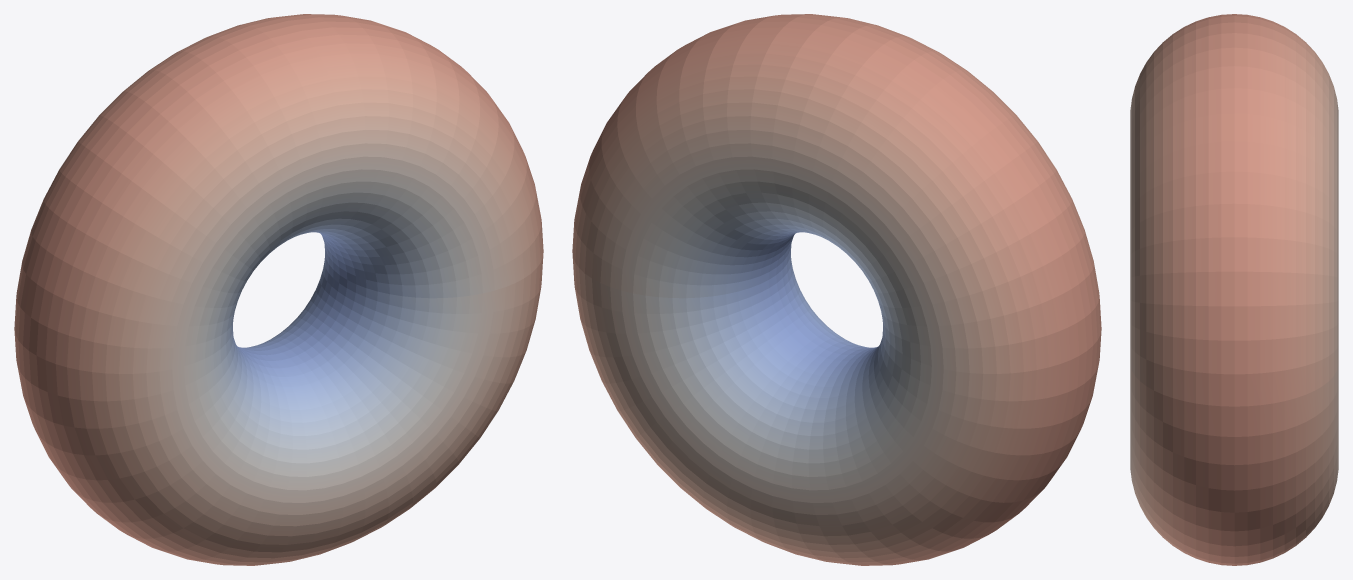
3 renders of one model, left to right at view 1: azimuth 30°, elevation 25°; view 2: azimuth 150°, elevation 25°; view 3: azimuth 270°, elevation 25°, orthographic. The views are drawn at different scales.
Visible parts, largest first — view 1: world; view 2: world; view 3: world.
Part boxes in pixels (x1=…): world: x1=14, y1=14, x2=543, y2=565; world: x1=572, y1=14, x2=1101, y2=565; world: x1=1130, y1=14, x2=1338, y2=565.
Bounding box in the file's own units: 23.6 × 23.55 × 8.92.
